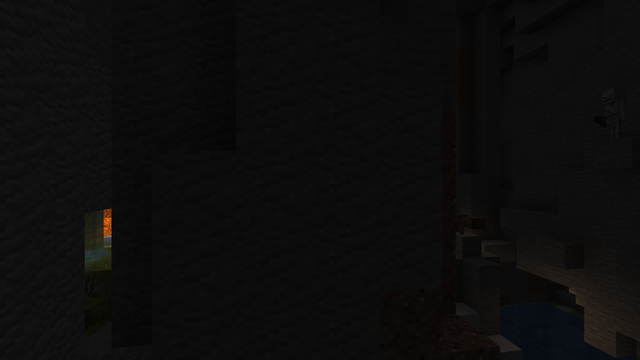araignees: (456, 212, 489, 235)
squelettes: (599, 85, 627, 130)
